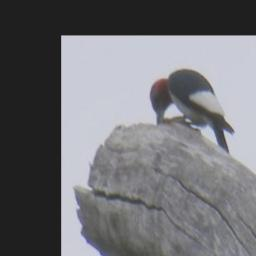Woodpecker: (146, 66, 238, 156)
